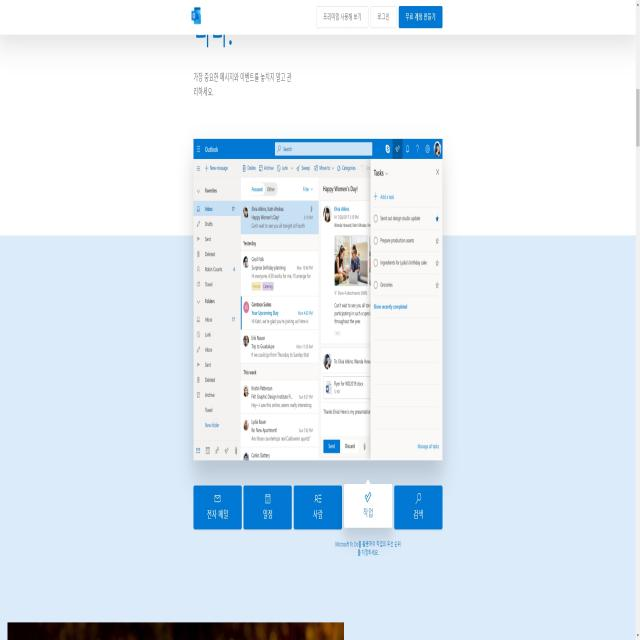menu-bar: (312, 1, 444, 32)
menu-panel: (193, 180, 239, 438)
search: (271, 138, 374, 156)
tab-bar: (185, 473, 446, 555), (196, 159, 360, 178)
